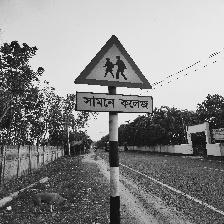College-in-front: (54, 21, 165, 131)
